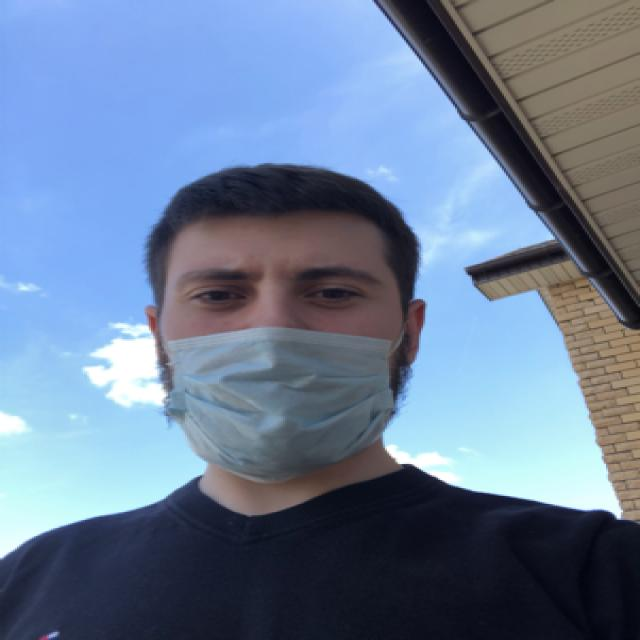with_mask: (164, 248, 396, 482)
